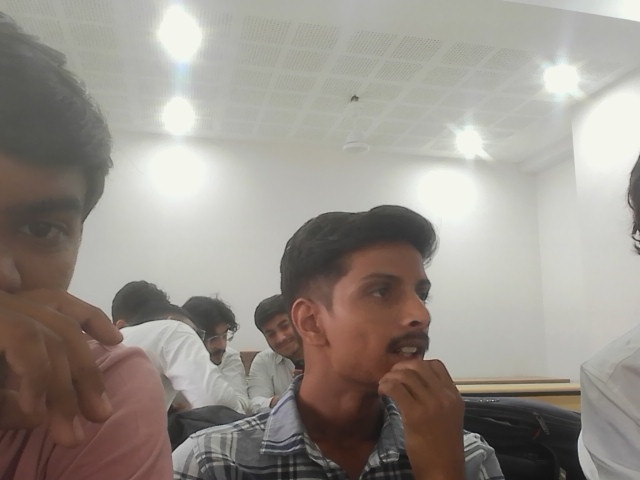fan_on: (340, 94, 370, 154)
light_on: (142, 1, 222, 171), (446, 120, 491, 158), (538, 63, 557, 88)
person: (172, 202, 506, 479), (0, 36, 176, 478), (113, 282, 298, 448), (576, 132, 639, 479)
